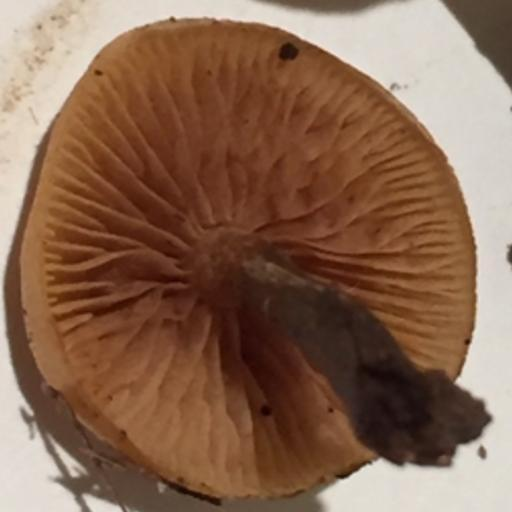mushroom: (17, 19, 477, 491)
